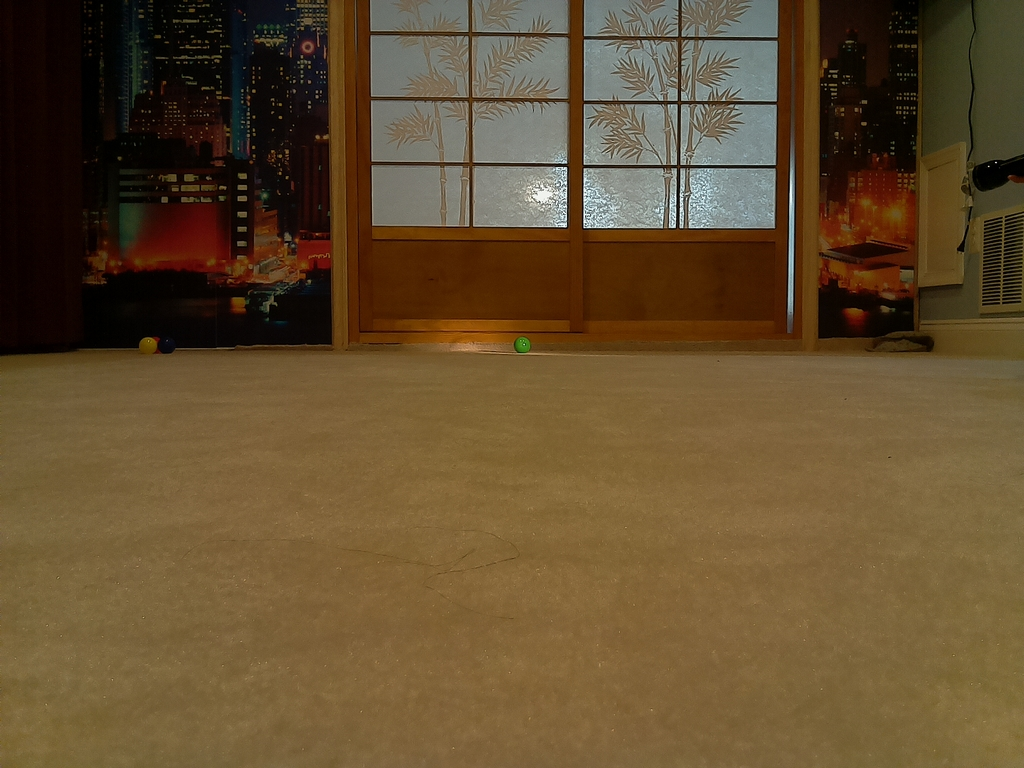ball: (139, 336, 159, 357)
